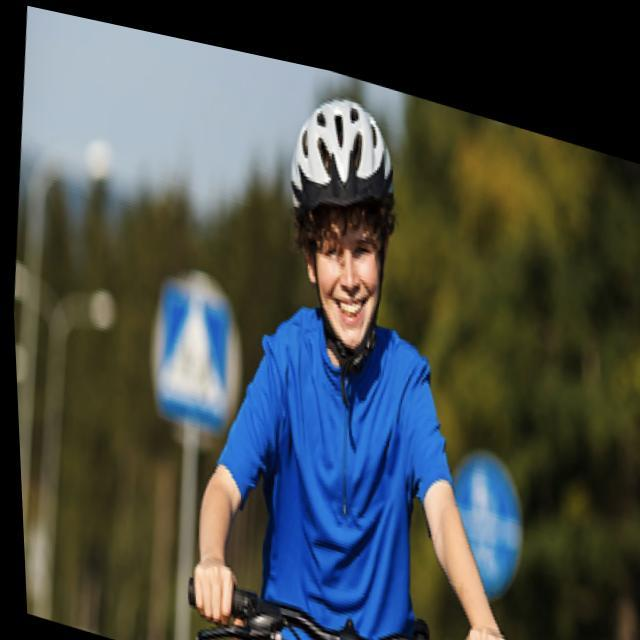Helmet: (285, 94, 400, 353)
